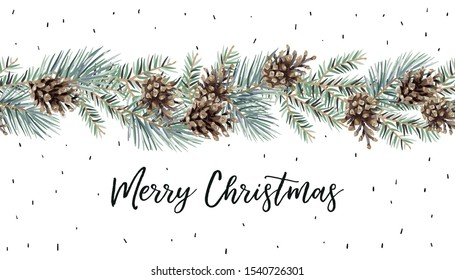Pc: (26, 70, 84, 117), (256, 52, 314, 88), (184, 105, 236, 143), (136, 75, 180, 119), (394, 68, 441, 105), (195, 69, 237, 106), (420, 96, 455, 133), (345, 91, 377, 125)
